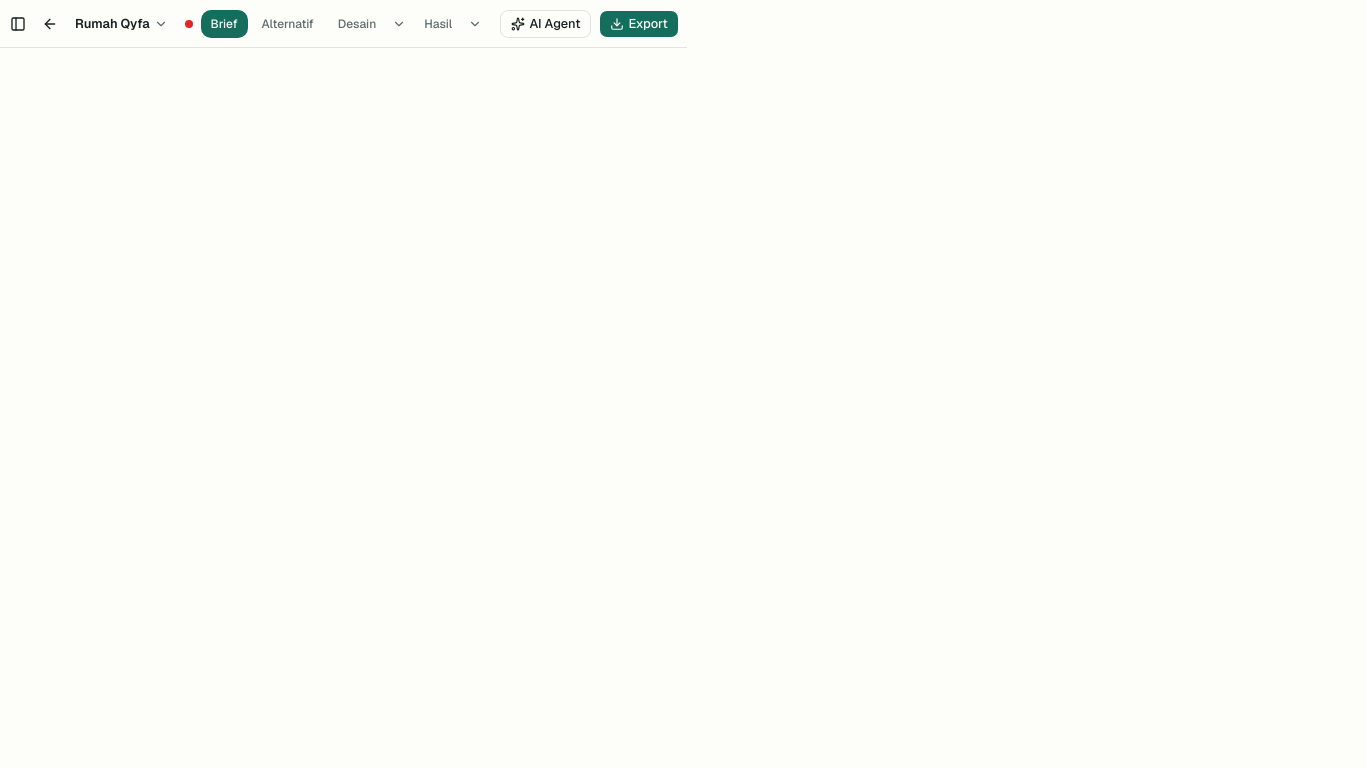
Test: ProjectBar — save status dot › shows the conflict (red) state
This screenshot has width=1366, height=768.
Click the button with test id "save-status-dot".
click(189, 24)  # box [179, 14, 199, 34]
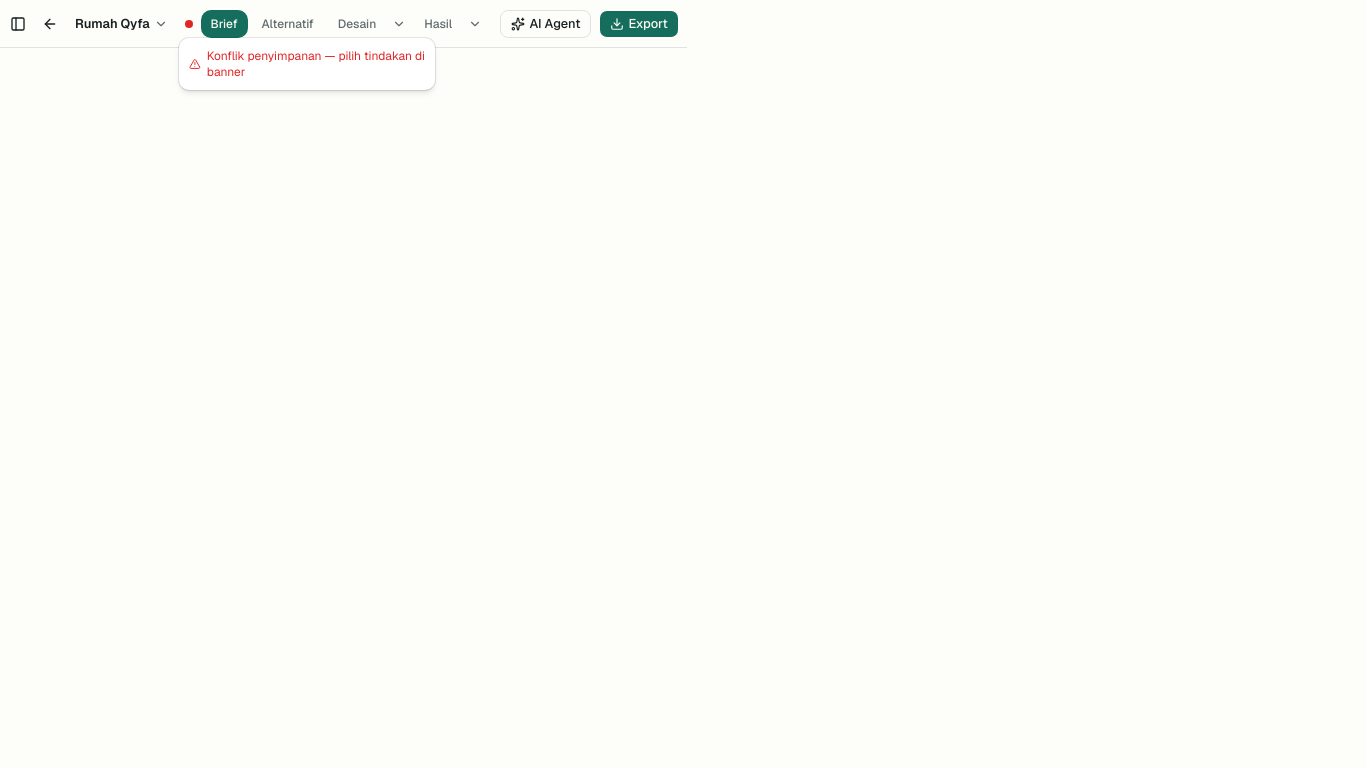
Now the text "Konflik penyimpanan — pilih tindakan di banner" is shown, box [207, 48, 425, 80]
